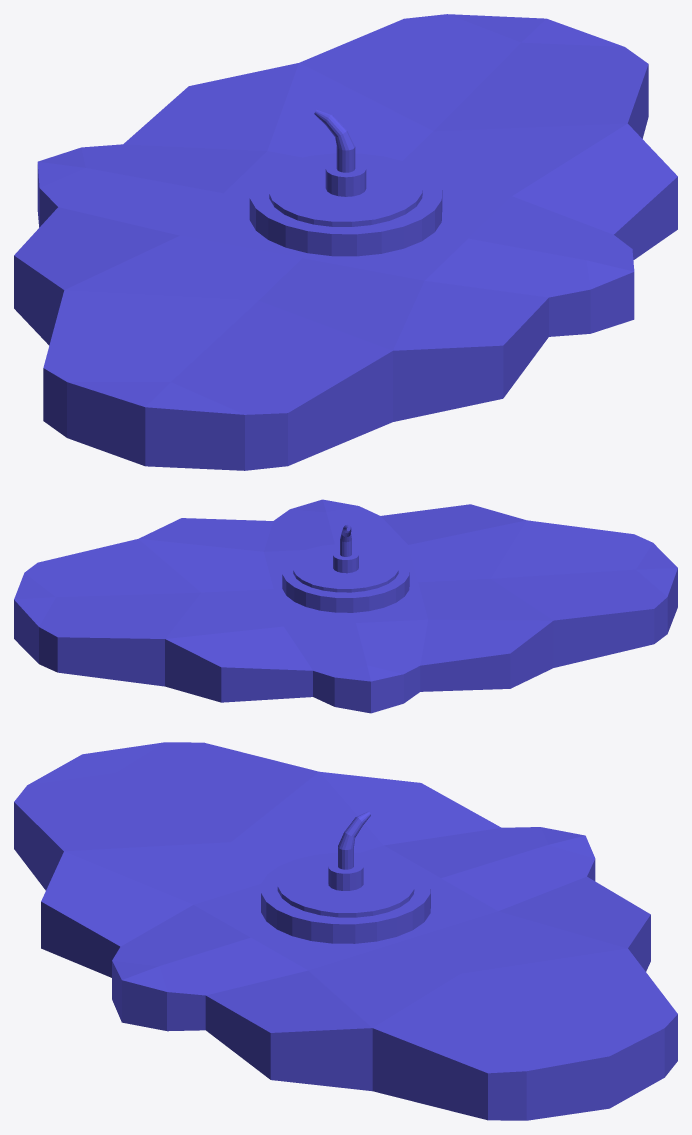
Rendered from Gancio.fbx.
3 views of the same model, one above another, from view 1: azimuth 30°, elevation 25°; view 2: azimuth 150°, elevation 25°; view 3: azimuth 270°, elevation 25° (orthographic). The views are drawn at different scales.
Parts seen in each view (by area): view 1: Gancio_chiave; view 2: Gancio_chiave; view 3: Gancio_chiave.
Boxes of the visible parts, x1,y1,x2,y2 form: Gancio_chiave: [14, 14, 677, 470]; Gancio_chiave: [14, 499, 677, 713]; Gancio_chiave: [14, 742, 677, 1120].
Size of the model in its own units: 25.51 by 5.19 by 21.65.
